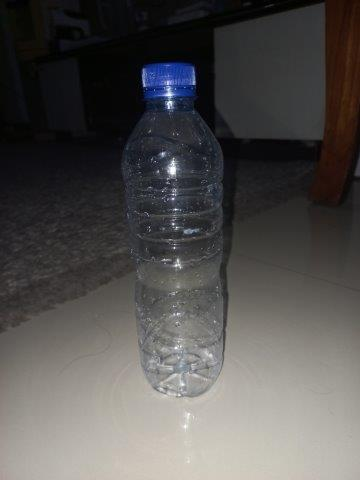botolplastik: (119, 62, 226, 396)
